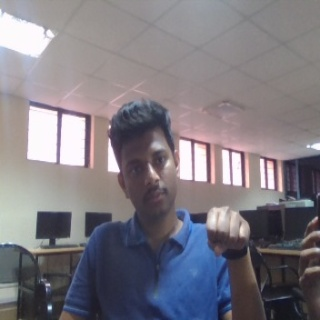Face: (109, 100, 182, 217)
Yes: (206, 205, 253, 261)
